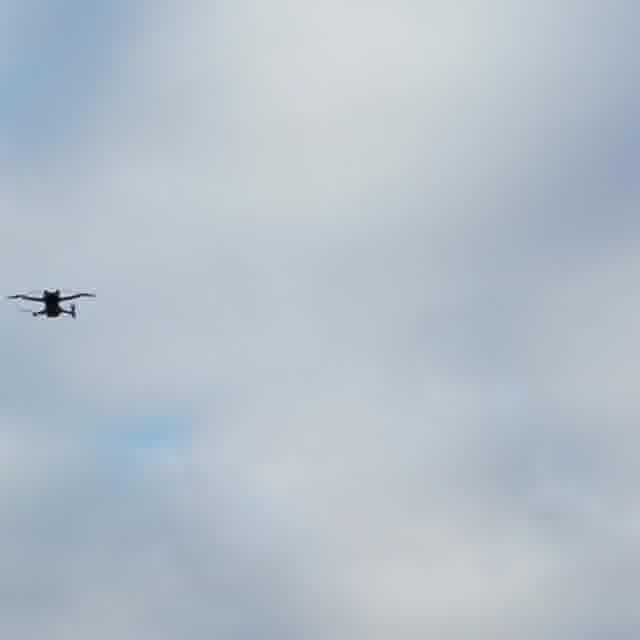Drohne: (8, 289, 95, 318)
